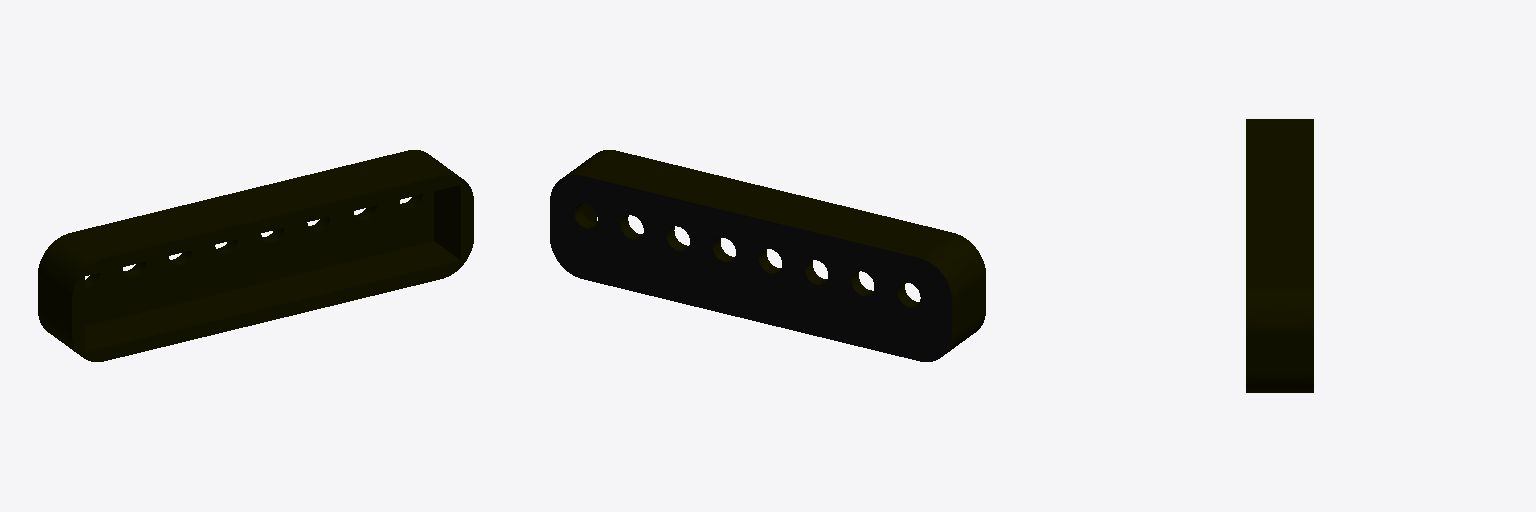
Rendered from CaseLeds.obj.
3 renders of one model, left to right at view 1: azimuth 30°, elevation 25°; view 2: azimuth 150°, elevation 25°; view 3: azimuth 270°, elevation 25°, orthographic.
Parts seen in each view (by area): view 1: Body3; view 2: Body3; view 3: Body3.
Boxes of the visible parts, x1,y1,x2,y2 form: Body3: [38, 150, 473, 361]; Body3: [550, 150, 985, 361]; Body3: [1246, 119, 1313, 392].
Bounding box in the file's own units: 61 × 15 × 9.